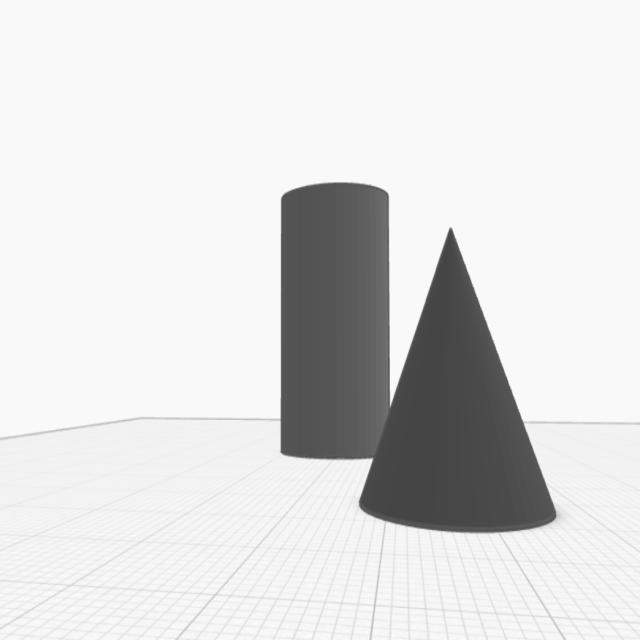cone: (356, 224, 560, 539)
